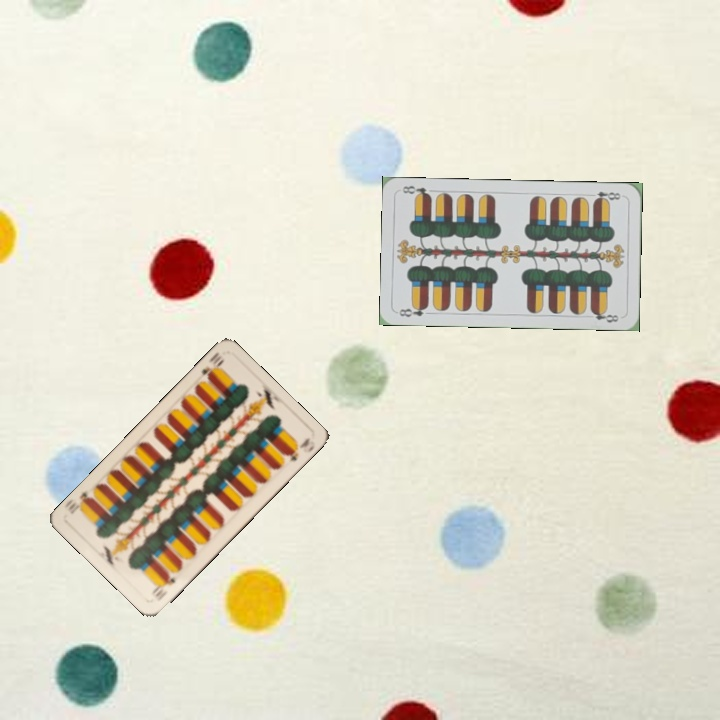E10: (197, 348, 227, 383), (147, 571, 178, 599)
E8: (585, 187, 626, 205), (395, 301, 430, 320)
